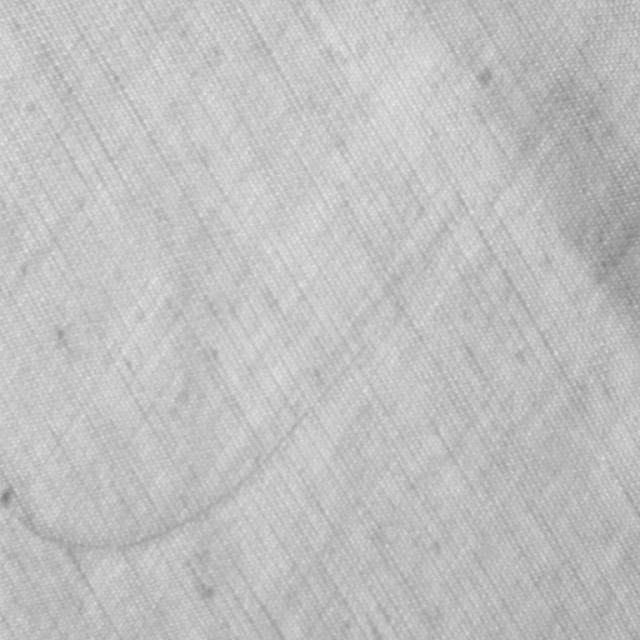objects: (0, 283, 414, 555)
